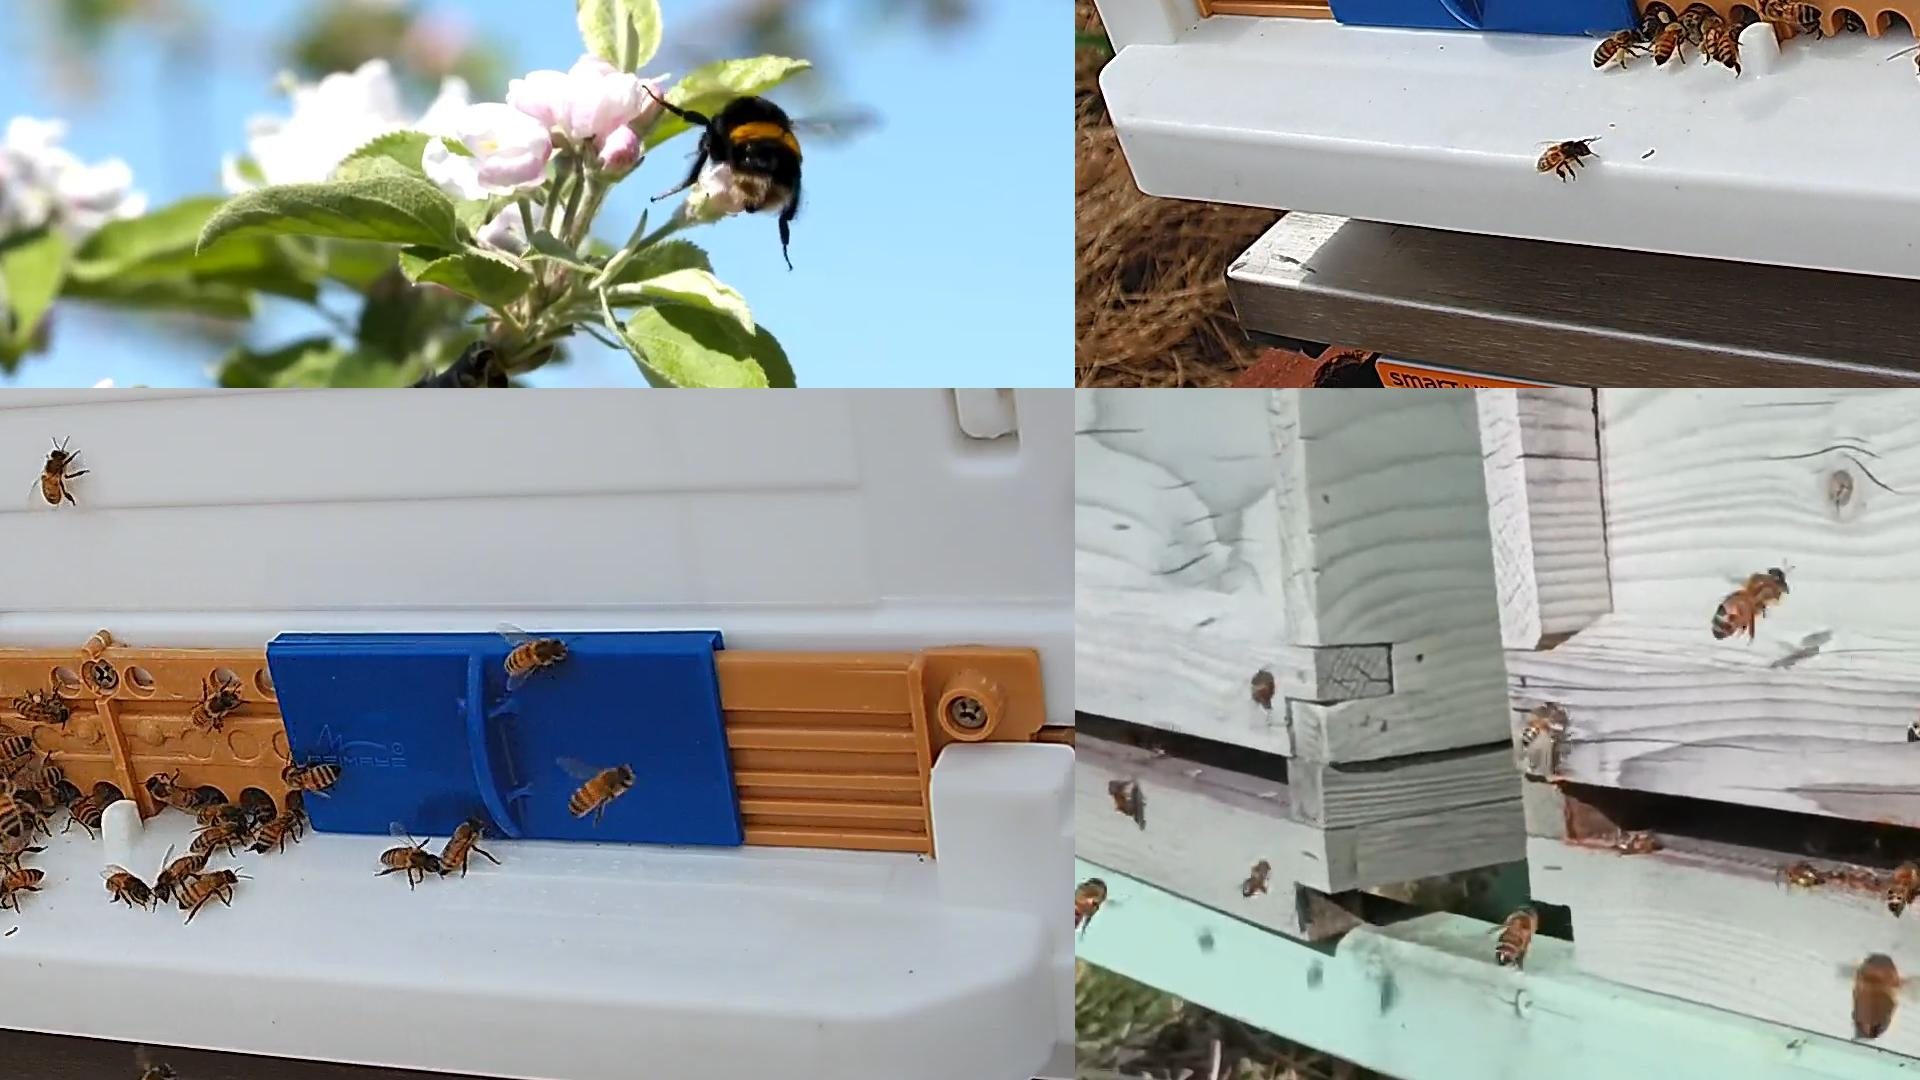bee: (1718, 568, 1787, 636), (571, 766, 636, 818), (1858, 953, 1896, 1034), (438, 812, 485, 874), (506, 634, 564, 678), (1494, 911, 1539, 964), (179, 872, 240, 909), (258, 810, 303, 855), (158, 857, 206, 897), (1075, 877, 1108, 934), (194, 688, 239, 727), (1538, 140, 1588, 173), (1522, 699, 1555, 749), (1760, 0, 1821, 26), (381, 849, 440, 876), (145, 778, 200, 806), (1782, 861, 1832, 891), (285, 764, 342, 790), (0, 870, 45, 903), (9, 766, 65, 793), (16, 698, 70, 724), (42, 450, 70, 501), (1655, 21, 1687, 66), (0, 771, 21, 839), (190, 828, 248, 852), (1718, 22, 1749, 67), (107, 873, 150, 903), (1886, 868, 1915, 910), (1617, 827, 1664, 852), (0, 735, 33, 770), (65, 796, 103, 825), (199, 804, 248, 827), (0, 804, 37, 833), (1702, 15, 1724, 59), (1251, 669, 1274, 711), (1242, 865, 1271, 895), (1113, 781, 1135, 816), (125, 1064, 175, 1079), (252, 789, 273, 822), (1681, 4, 1709, 26), (1845, 8, 1865, 33)
pollenbee: (1588, 29, 1634, 67), (1638, 5, 1665, 38)
